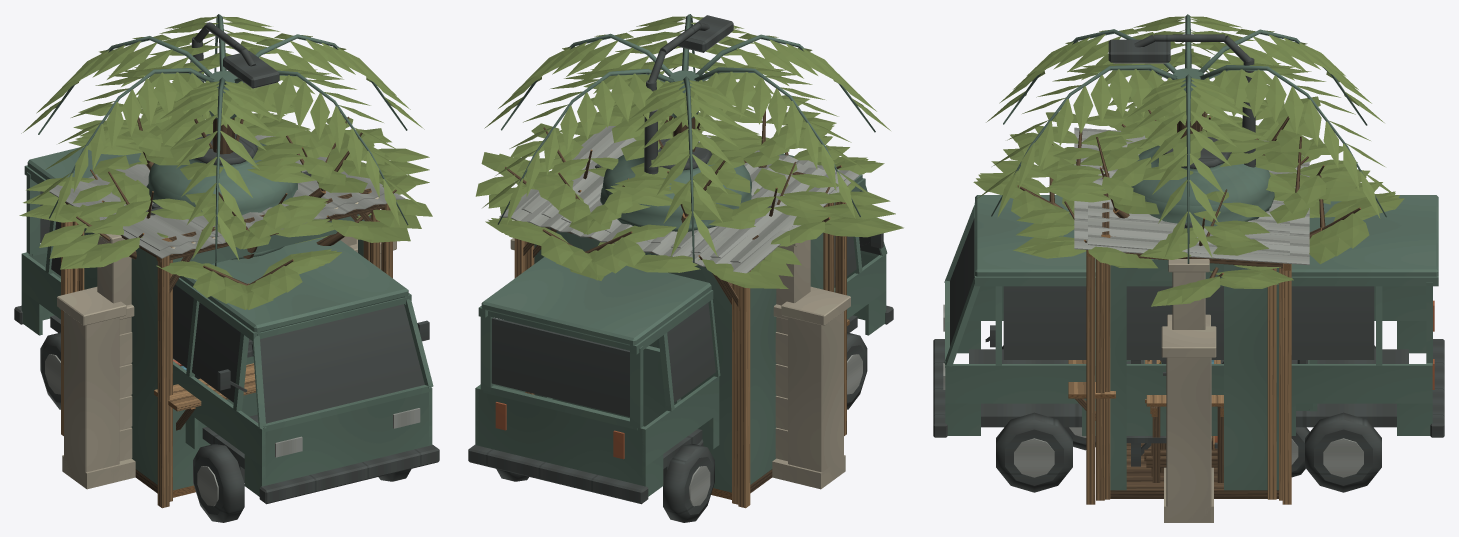
3 renders of one model, left to right at view 1: azimuth 30°, elevation 25°; view 2: azimuth 150°, elevation 25°; view 3: azimuth 270°, elevation 25°, orthographic.
Parts seen in each view (by area): view 1: minibus, palm, broadleaf-tree, acacia, kiosk, wall, canopy, water-tank, market-stall, gate, street-lamp; view 2: minibus, palm, broadleaf-tree, kiosk, acacia, wall, market-stall, canopy, water-tank, street-lamp, gate, three-wheeler; view 3: minibus, palm, kiosk, broadleaf-tree, acacia, market-stall, wall, water-tank, canopy, street-lamp, gate, three-wheeler.
Boxes of the visible parts, x1,y1,x2,y2 form: minibus: (14, 147, 439, 522); palm: (21, 14, 424, 266); broadleaf-tree: (68, 81, 391, 258); acacia: (19, 108, 432, 309); kiosk: (49, 135, 405, 501); wall: (57, 239, 396, 489); canopy: (61, 197, 392, 508); water-tank: (146, 134, 297, 379); market-stall: (70, 156, 384, 370); gate: (93, 233, 356, 482); street-lamp: (190, 22, 279, 115); minibus: (468, 153, 893, 522); palm: (482, 14, 890, 262); broadleaf-tree: (510, 71, 842, 234); kiosk: (499, 131, 859, 504); acacia: (475, 109, 903, 288); wall: (510, 238, 850, 489); market-stall: (521, 126, 846, 290); canopy: (514, 186, 847, 508); water-tank: (600, 138, 751, 231); street-lamp: (644, 15, 733, 174); gate: (772, 240, 810, 482); three-wheeler: (558, 335, 703, 445); minibus: (933, 195, 1444, 492); palm: (976, 14, 1400, 263); kiosk: (1068, 127, 1309, 500); broadleaf-tree: (1010, 85, 1367, 259); acacia: (973, 107, 1404, 306); market-stall: (1088, 128, 1289, 499); wall: (1161, 314, 1216, 522); water-tank: (1131, 137, 1274, 466); canopy: (1086, 250, 1291, 504); street-lamp: (1108, 34, 1255, 167); gate: (1168, 259, 1209, 329); three-wheeler: (1064, 360, 1318, 477).
Size of the model in its own units: 3.93 by 3.83 by 4.3.
1 material, 1 textured.
